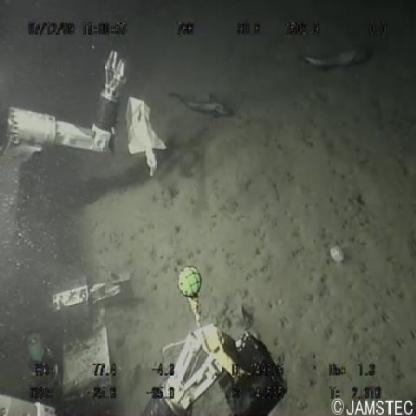Bio: (299, 43, 376, 73), (170, 89, 235, 122)
Rov: (1, 45, 295, 416)
Rác: (123, 95, 169, 181), (328, 243, 349, 268)
